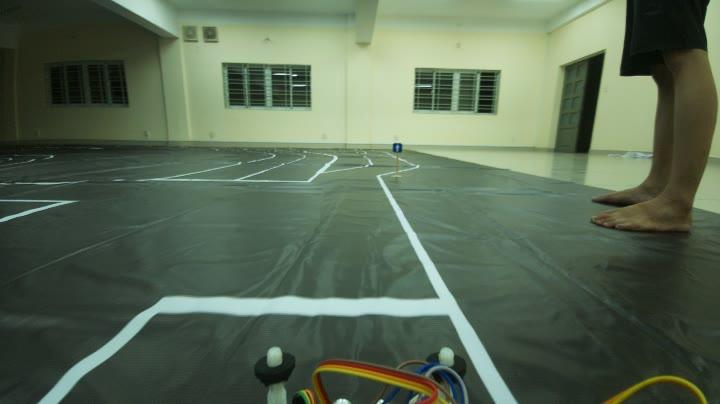onewayroad: (392, 138, 406, 158)
